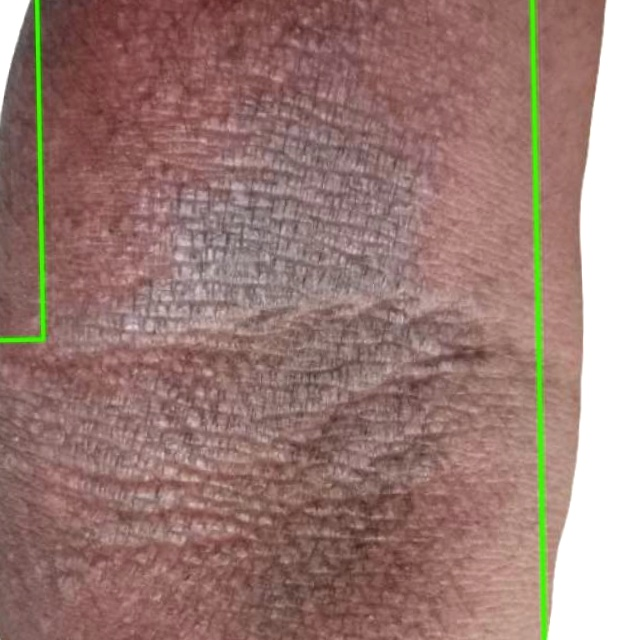Eczema: (532, 0, 639, 639)
